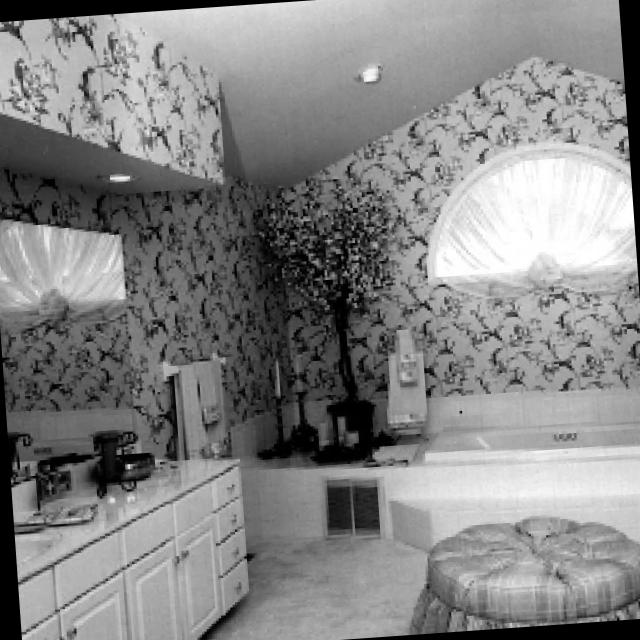2001: (432, 151, 631, 269)
air vent: (321, 473, 383, 534)
bathtub: (422, 418, 640, 458)
cabinet door: (18, 464, 246, 640)
candles: (254, 342, 308, 453), (309, 409, 365, 460)
ceiling beam: (0, 0, 616, 192)
ceiling lamps: (97, 166, 137, 187), (353, 60, 383, 82)
counter bottom: (13, 453, 234, 576)
curtain crop: (425, 140, 635, 295)
floor -X: (201, 538, 425, 640)
mirror crop: (0, 217, 132, 479)
ottoman: (402, 511, 640, 628)
plant -x: (249, 172, 402, 429)
towel basket: (12, 501, 95, 529), (360, 439, 416, 463)
towels: (172, 352, 229, 456), (382, 324, 425, 431)
